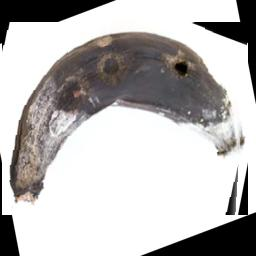Banana Rotten: (2, 22, 248, 215)
